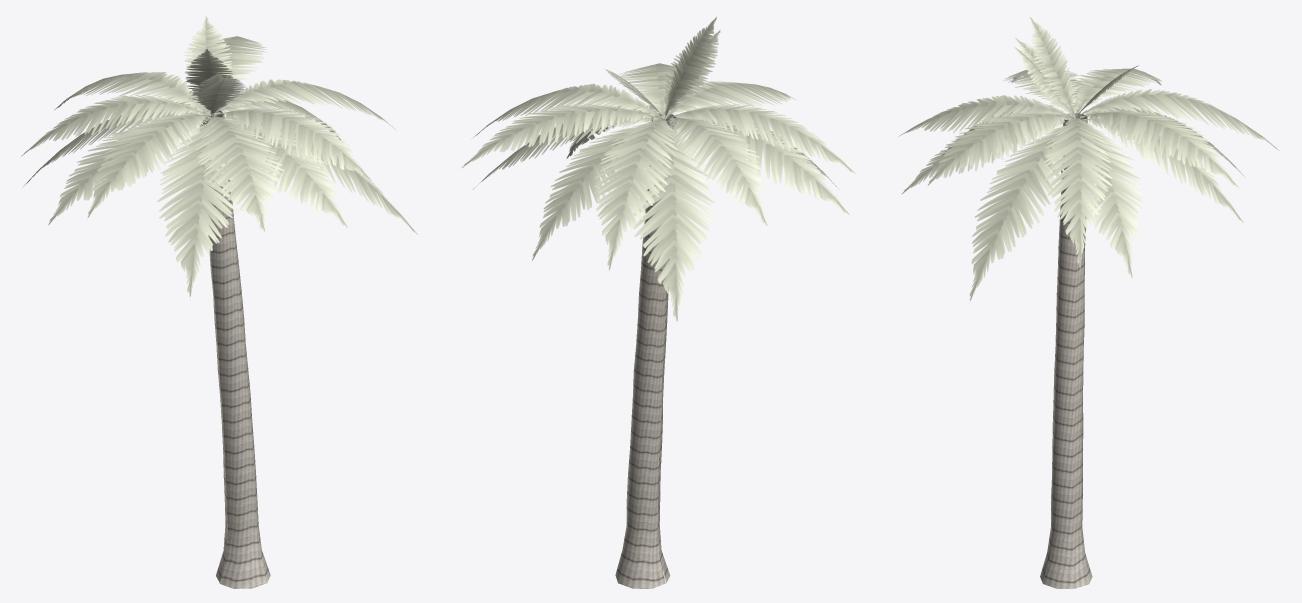
The model's file is palm_a.glb.
3 views of the same model, side by side, from view 1: azimuth 30°, elevation 25°; view 2: azimuth 150°, elevation 25°; view 3: azimuth 270°, elevation 25° (orthographic). The views are drawn at different scales.
Visible parts, largest first — view 1: palm_a; view 2: palm_a; view 3: palm_a.
Boxes of the visible parts, left/top/right/bottom form: palm_a: left=21, top=16, right=417, bottom=588; palm_a: left=461, top=17, right=855, bottom=588; palm_a: left=898, top=16, right=1279, bottom=588.
Size of the model in its own units: 6.73 by 9.6 by 6.41.
2 materials, 2 textured.
